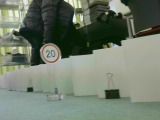speed_20: (38, 43, 62, 65)
